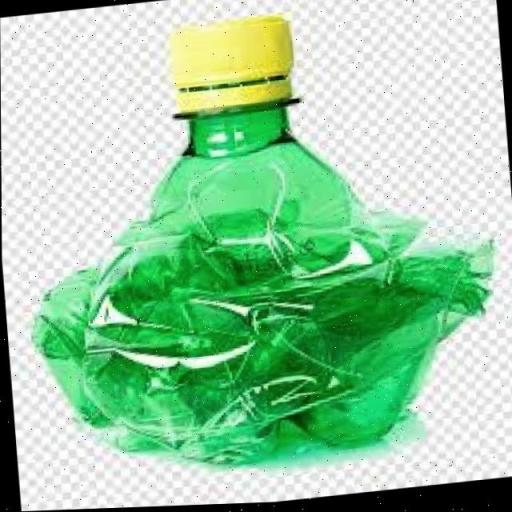plastic: (9, 0, 504, 486)
